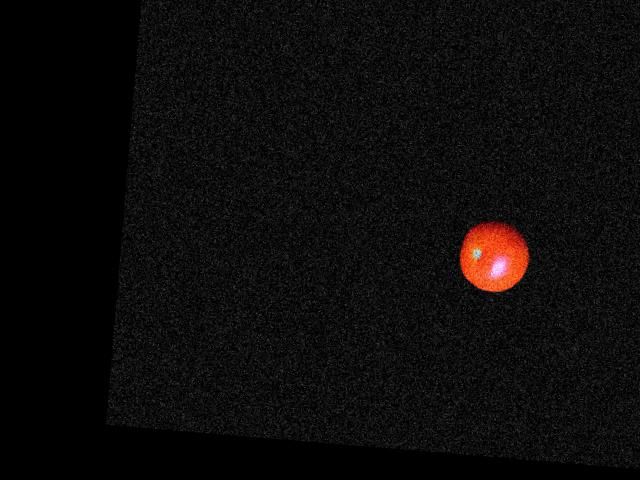tomato: (457, 217, 532, 294)
